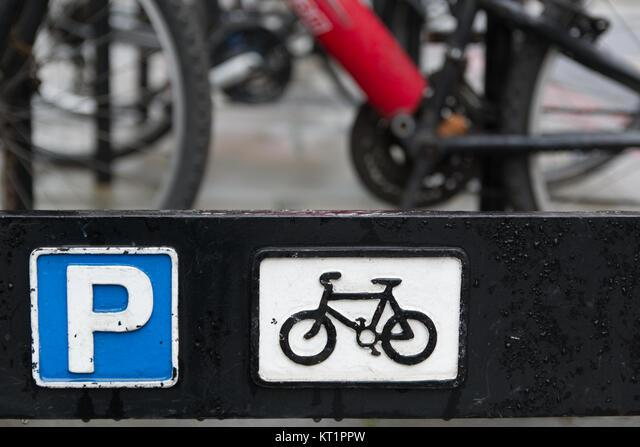Parking Lot Cycle: (22, 213, 484, 407)
